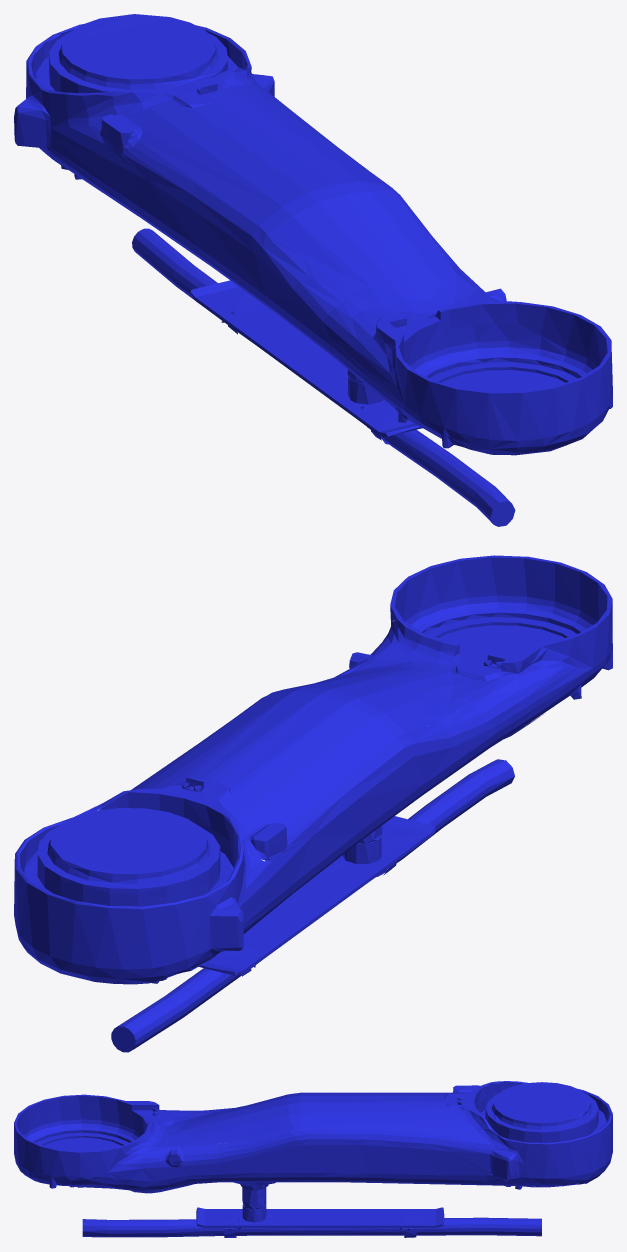
3 renders of one model, top to bottom at view 1: azimuth 30°, elevation 25°; view 2: azimuth 150°, elevation 25°; view 3: azimuth 270°, elevation 25°, orthographic. The views are drawn at different scales.
Parts seen in each view (by area): view 1: /Link2/Link2_002-mesh/0; view 2: /Link2/Link2_002-mesh/0; view 3: /Link2/Link2_002-mesh/0.
Boxes of the visible parts, <box> form: /Link2/Link2_002-mesh/0: <box>14,14,612,526</box>; /Link2/Link2_002-mesh/0: <box>14,555,612,1052</box>; /Link2/Link2_002-mesh/0: <box>14,1081,612,1237</box>.
Bounding box in the file's own units: 0.413 × 0.3874 × 1.5.
